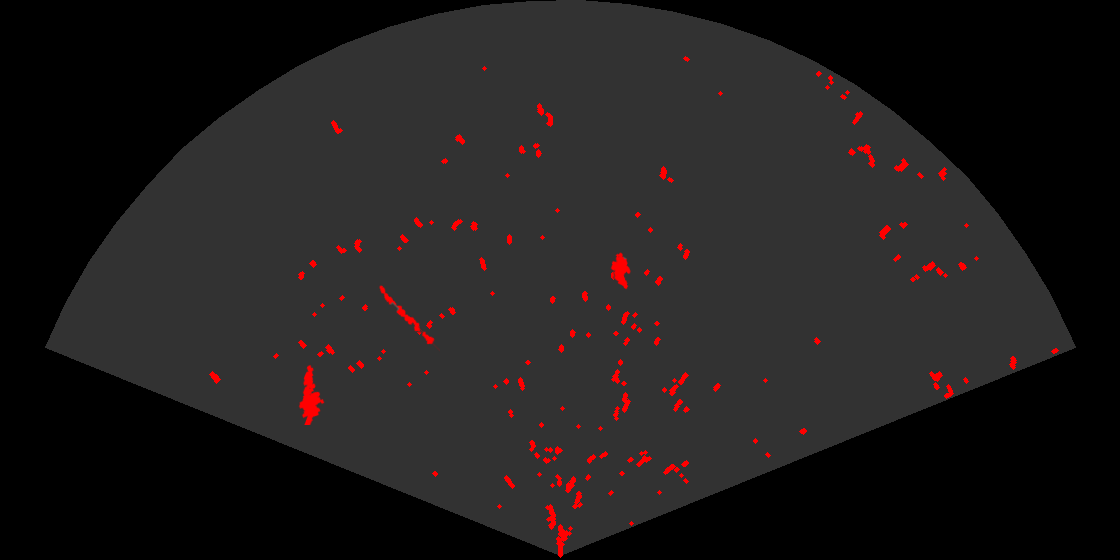AUV: (609, 251, 632, 291)
chain: (378, 284, 440, 353)
frogman: (297, 363, 326, 425)
